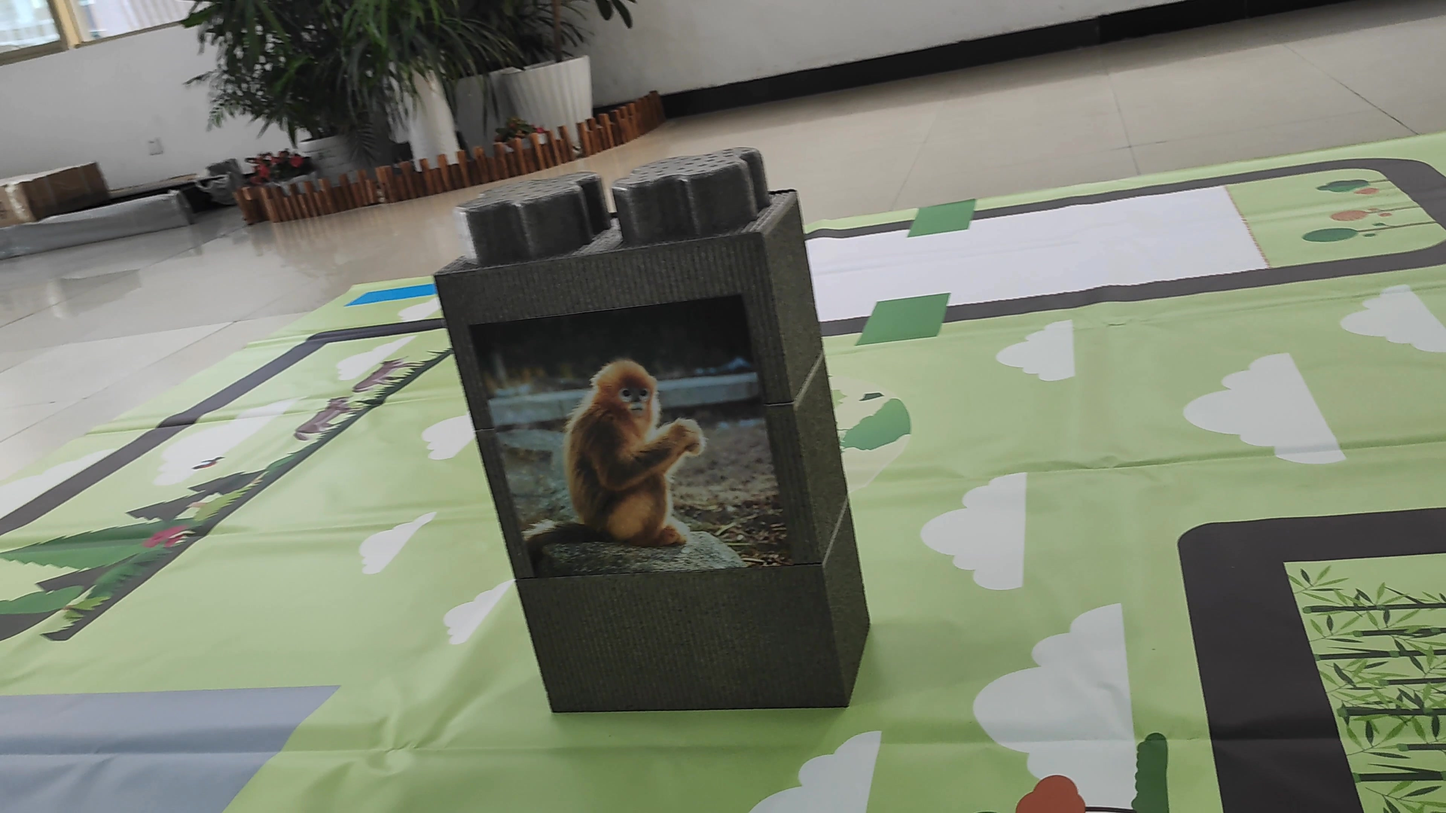monkey: (506, 350, 737, 574)
